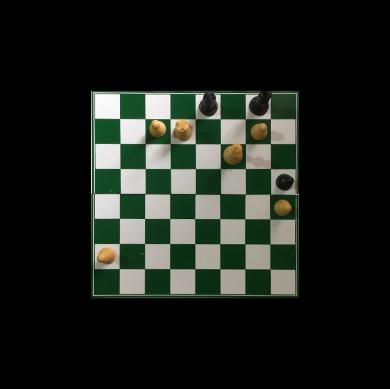black-king: (248, 91, 273, 116)
black-pawn: (275, 173, 294, 191)
black-rook: (198, 91, 219, 117)
white-king: (222, 141, 244, 165)
white-pawn: (248, 122, 269, 142), (96, 247, 117, 266), (148, 119, 167, 139), (273, 198, 293, 217)
white-rook: (173, 118, 193, 141)
